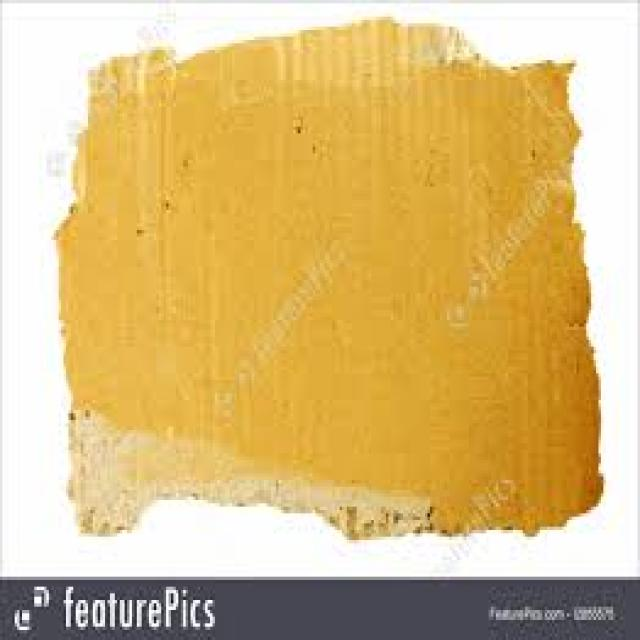cardboard: (54, 13, 603, 537)
